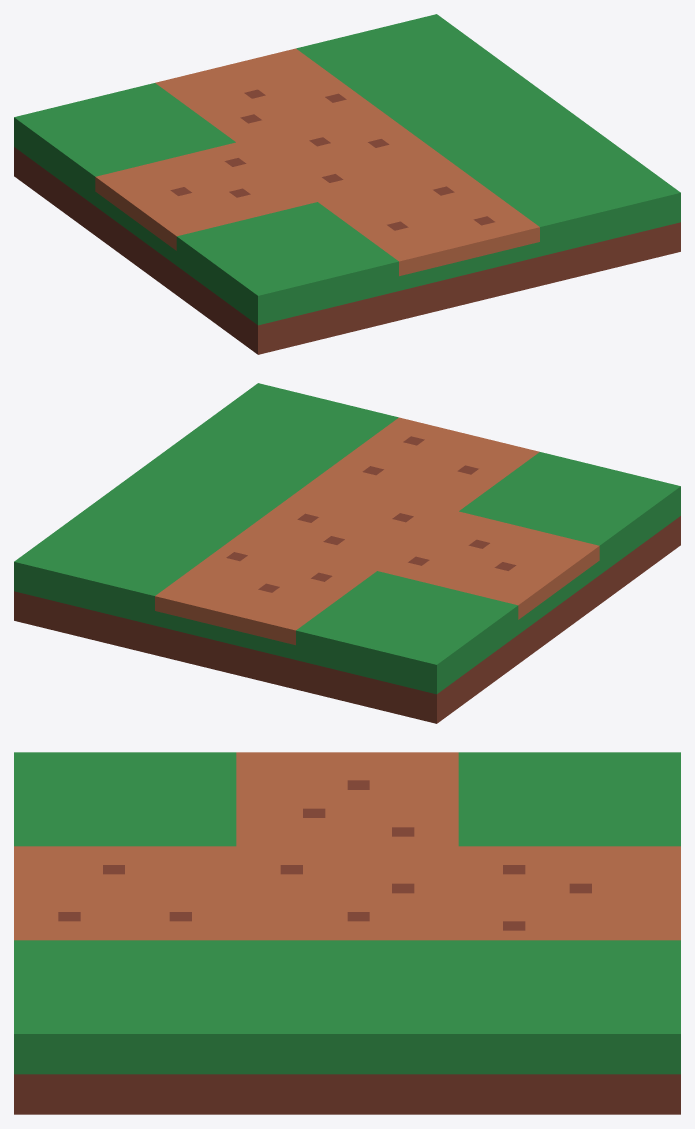
The model's file is 3Way04.obj.
3 renders of one model, top to bottom at view 1: azimuth 30°, elevation 25°; view 2: azimuth 150°, elevation 25°; view 3: azimuth 270°, elevation 25°, orthographic. The views are drawn at different scales.
Bounding box in the file's own units: 3 × 0.4 × 3.
Materials: 1 (1 with a texture image).
